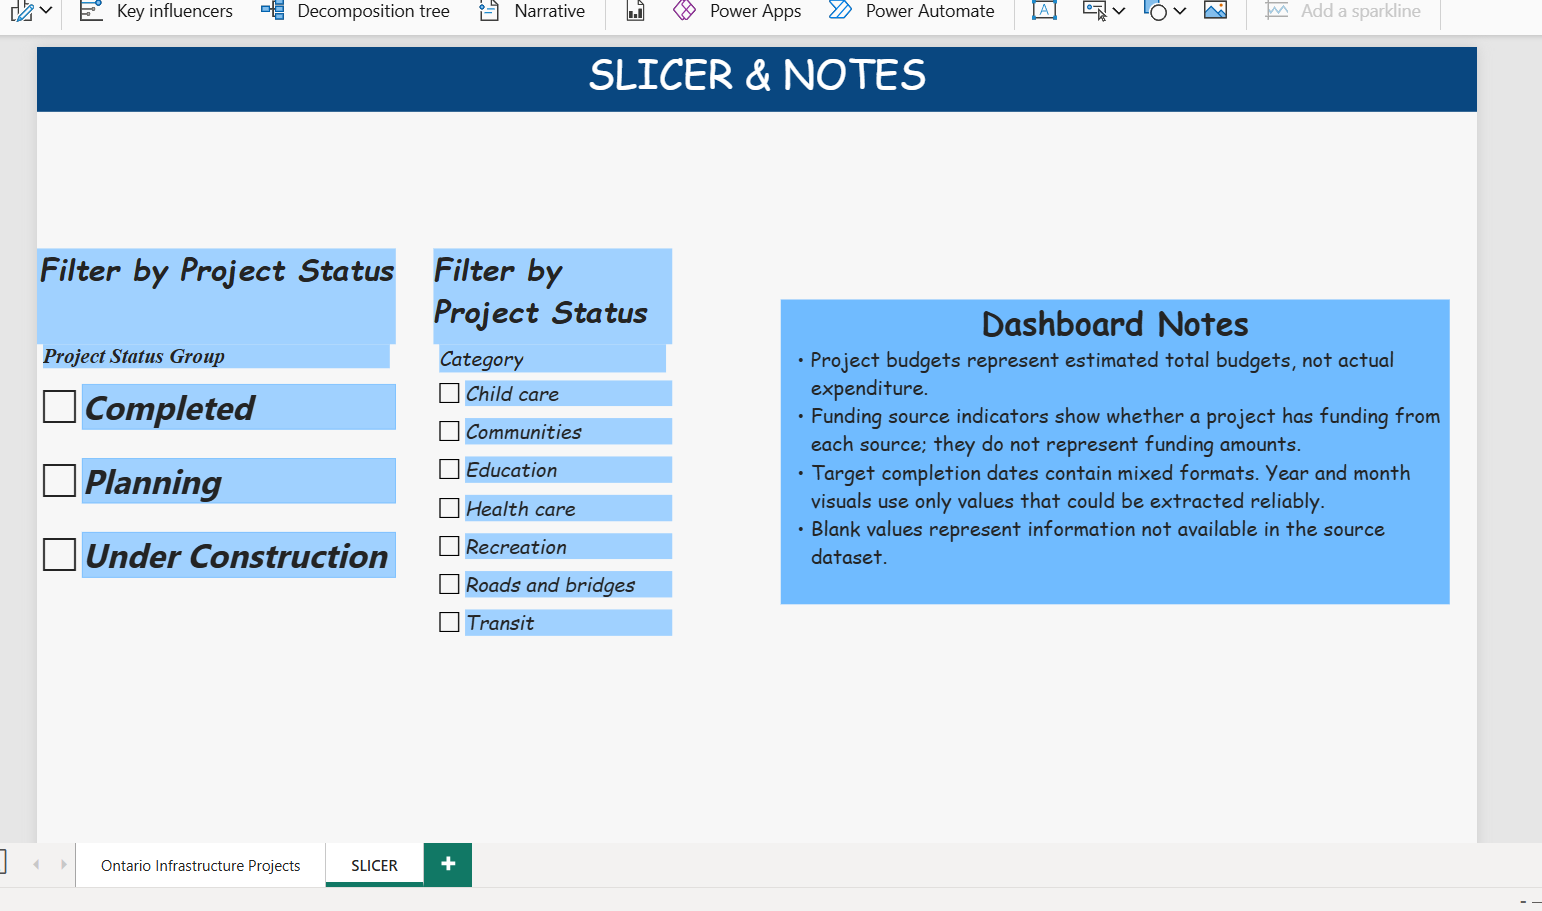

Layout of this report page (visuals, bound fields, positions):
{"tool":"powerbi","page":{"name":"SLICER","canvas":[1920,1080],"ordinal":1},"visuals":[{"type":"slicer","title":"Filter by Project Status ","fields":{"Values":["ontbuilds-all-20260914.Project Status Group"]},"box":[0,268.3,478.3,510],"z":0},{"type":"slicer","title":"Filter by Project Status","fields":{"Values":["ontbuilds-all-20260914.Category"]},"box":[528.3,268.3,318.3,543.3],"z":1},{"type":"textbox","title":"SLICER & NOTES","box":[0,0,1920,86.7],"z":2},{"type":"textbox","box":[991.7,336.7,891.7,406.7],"z":3}]}

Visuals, with their boxes on the page's 1920x1080 design canvas (x1, y1, x2, y2). These are canvas units, not pixel positions in the 1542x911 screenshot, which may show the page scaled, cropped or inside an application window:
"Filter by Project Status " slicer: region(0, 268, 478, 778)
"Filter by Project Status" slicer: region(528, 268, 847, 812)
"SLICER & NOTES" textbox: region(0, 0, 1920, 87)
textbox: region(992, 337, 1883, 743)
